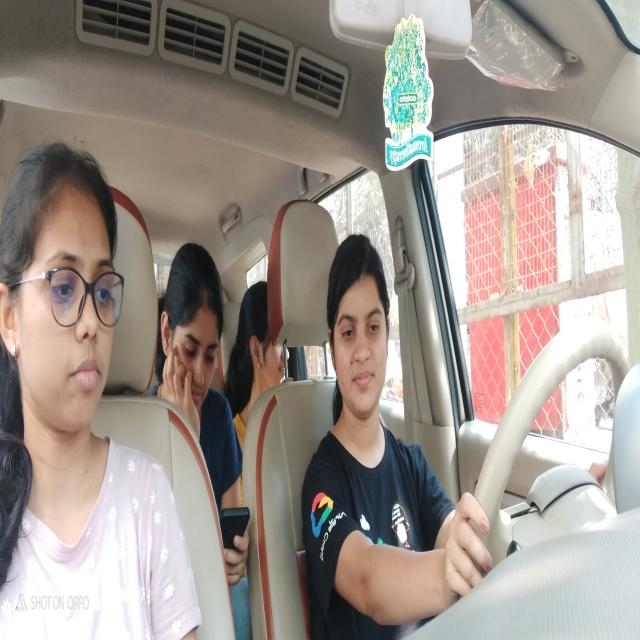person: (0, 137, 125, 456), (325, 231, 393, 430), (157, 234, 223, 413), (238, 278, 294, 394)
